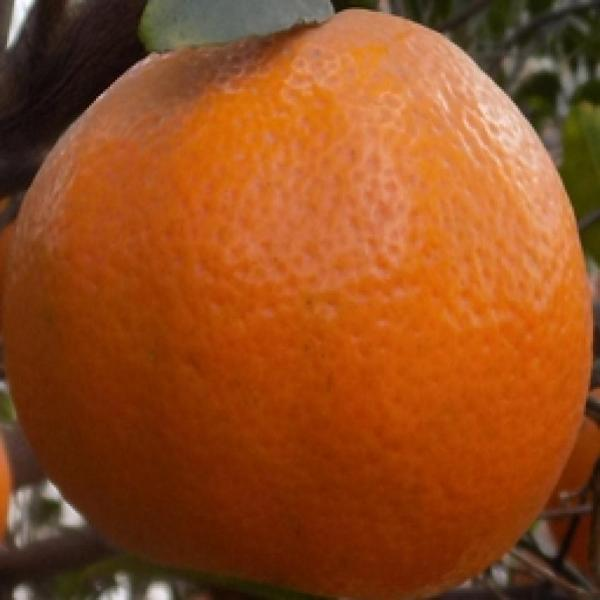Sana: (3, 0, 585, 593)
